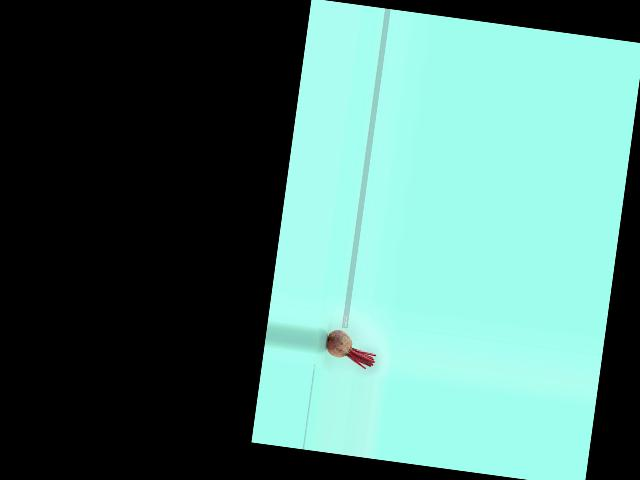beet: (323, 328, 378, 369)
